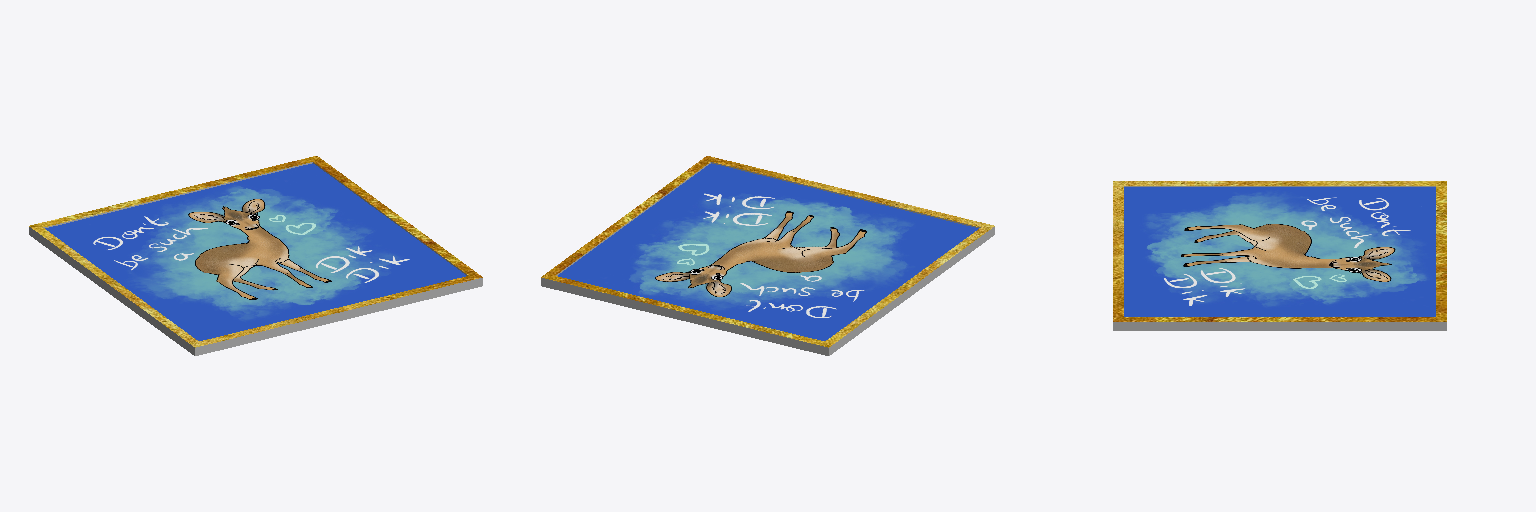
The picture shows the model from 3 angles: view 1: azimuth 30°, elevation 25°; view 2: azimuth 150°, elevation 25°; view 3: azimuth 270°, elevation 25°; orthographic projection.
Parts seen in each view (by area): view 1: Plane.001, Plane; view 2: Plane.001, Plane; view 3: Plane.001, Plane.
Part boxes in pixels (bbox=[...]): Plane.001: bbox=[45, 163, 465, 340]; Plane: bbox=[29, 156, 482, 355]; Plane.001: bbox=[558, 163, 978, 340]; Plane: bbox=[541, 156, 994, 355]; Plane.001: bbox=[1124, 187, 1435, 316]; Plane: bbox=[1113, 181, 1446, 330].
Bounding box in the file's own units: 2 × 0.0578 × 2.
3 materials, 2 textured.